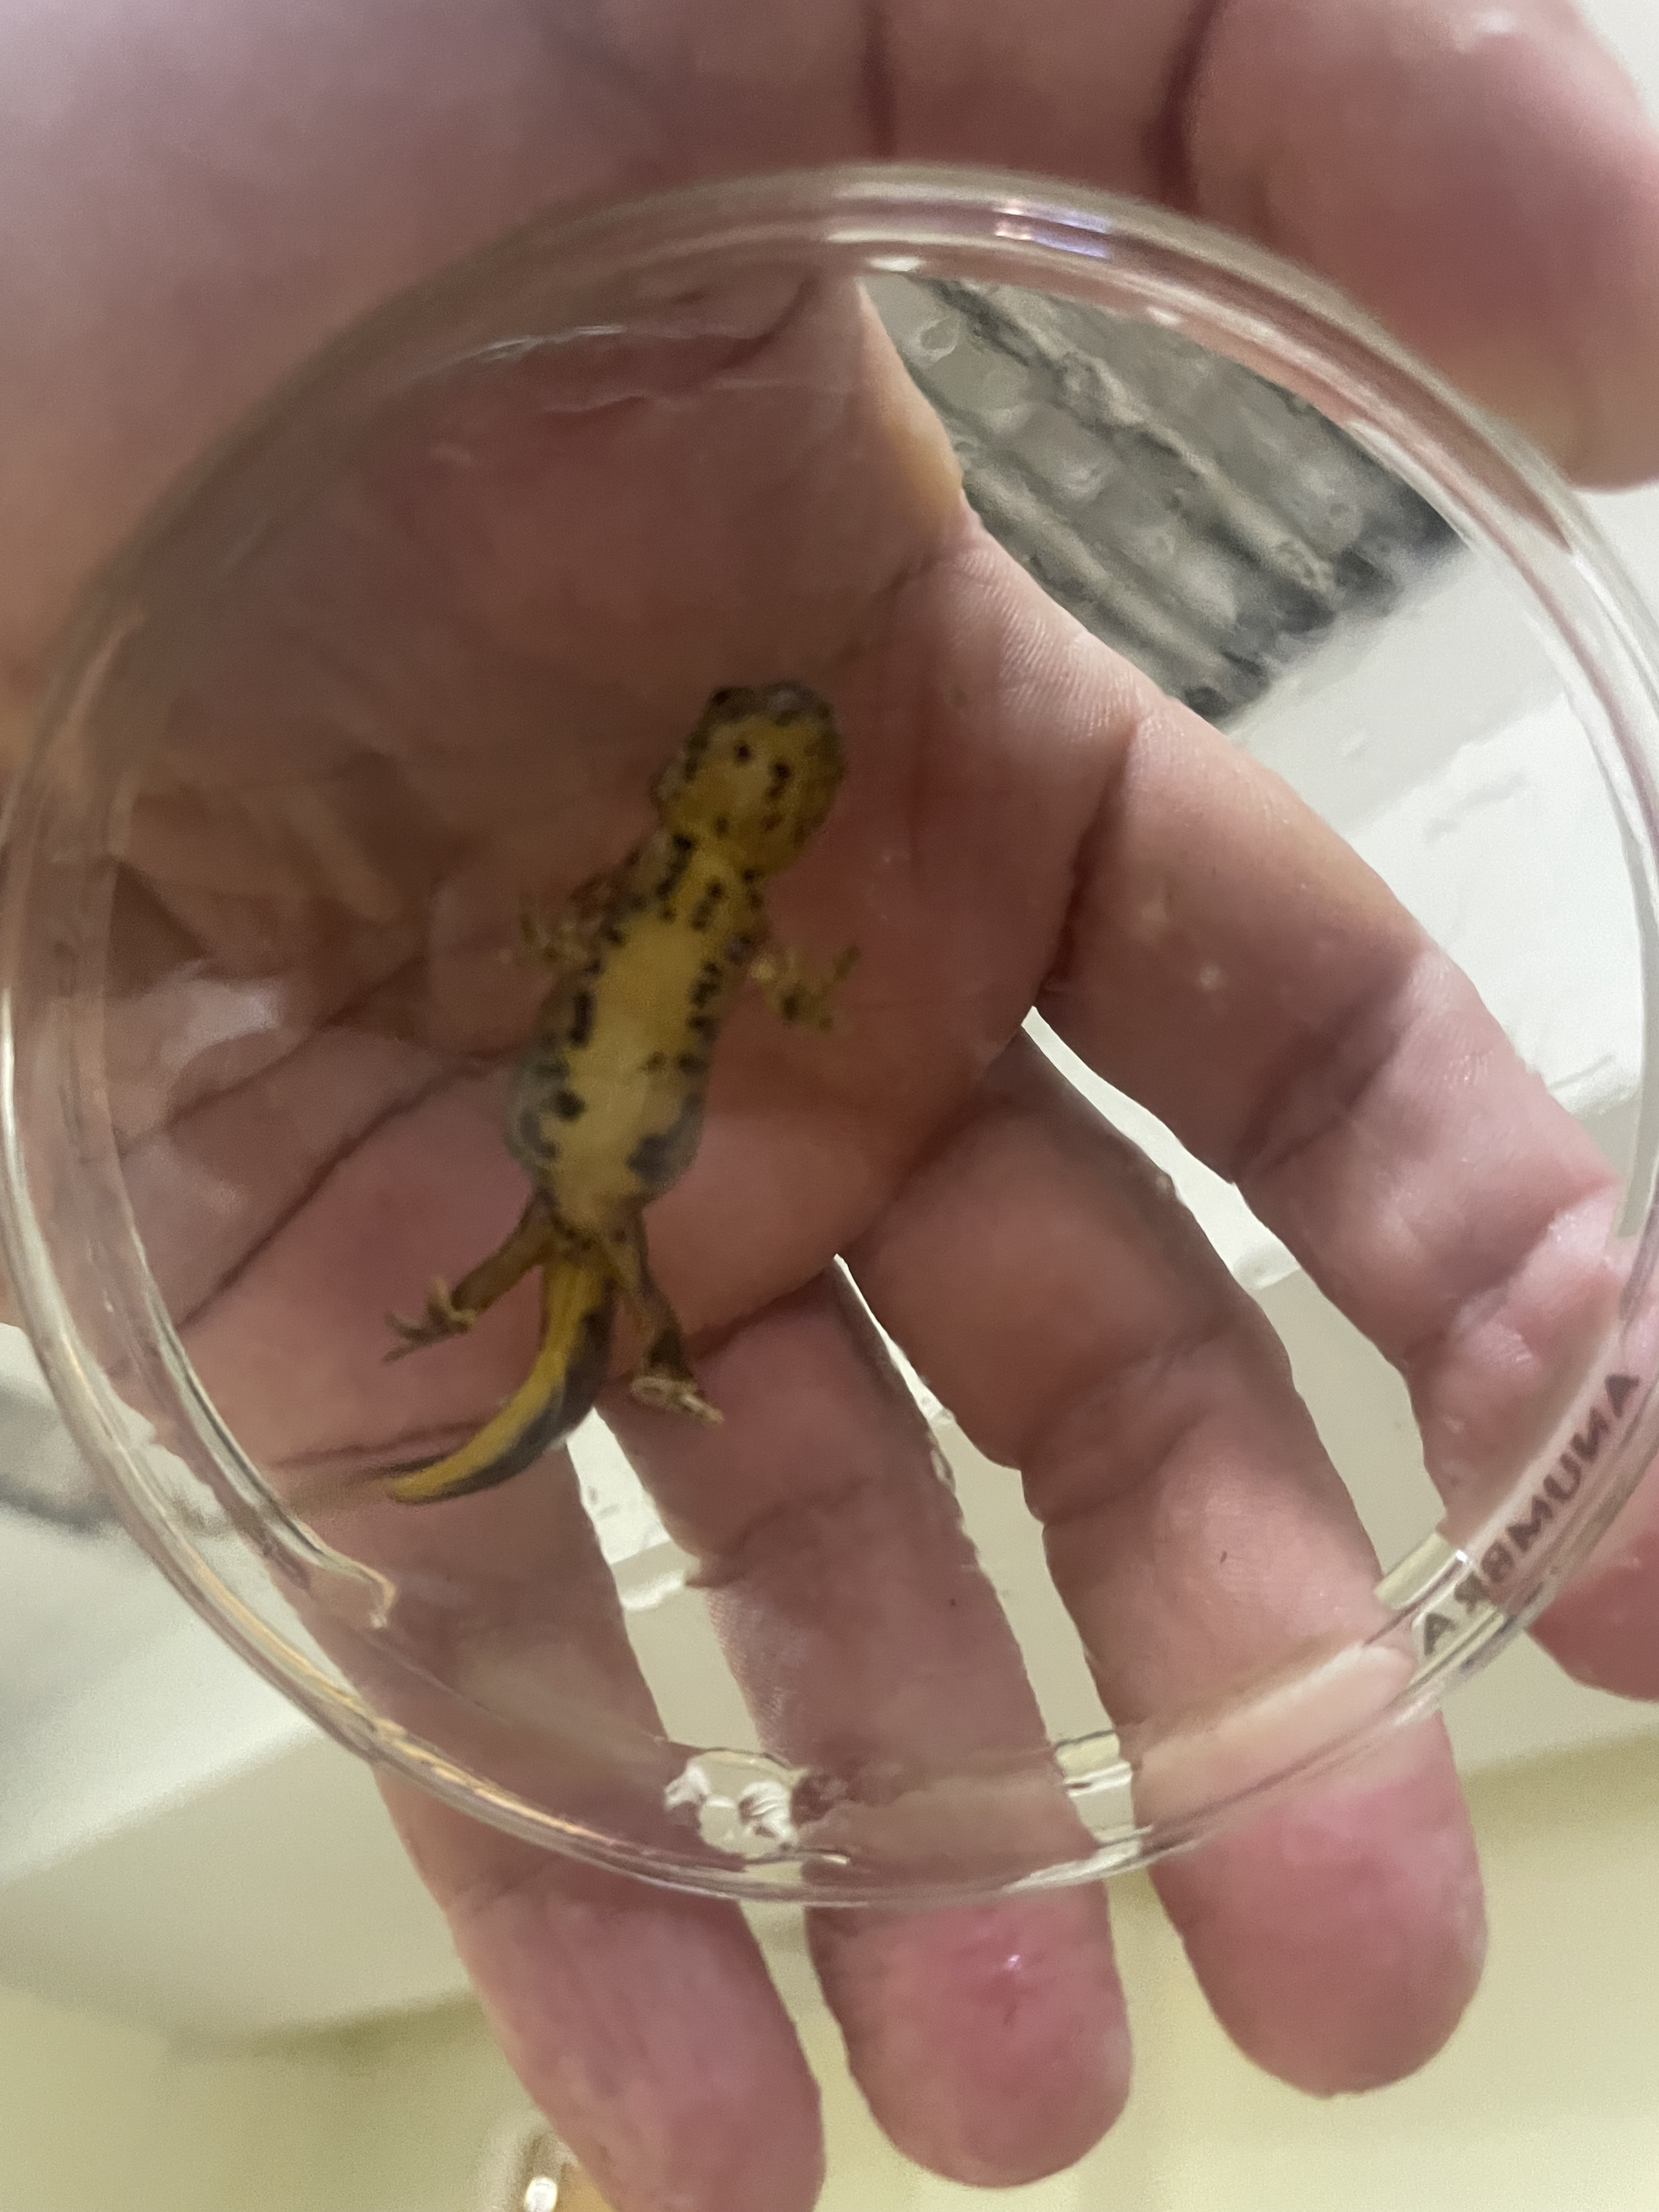Karelin_newt: (500, 928, 753, 1207)
